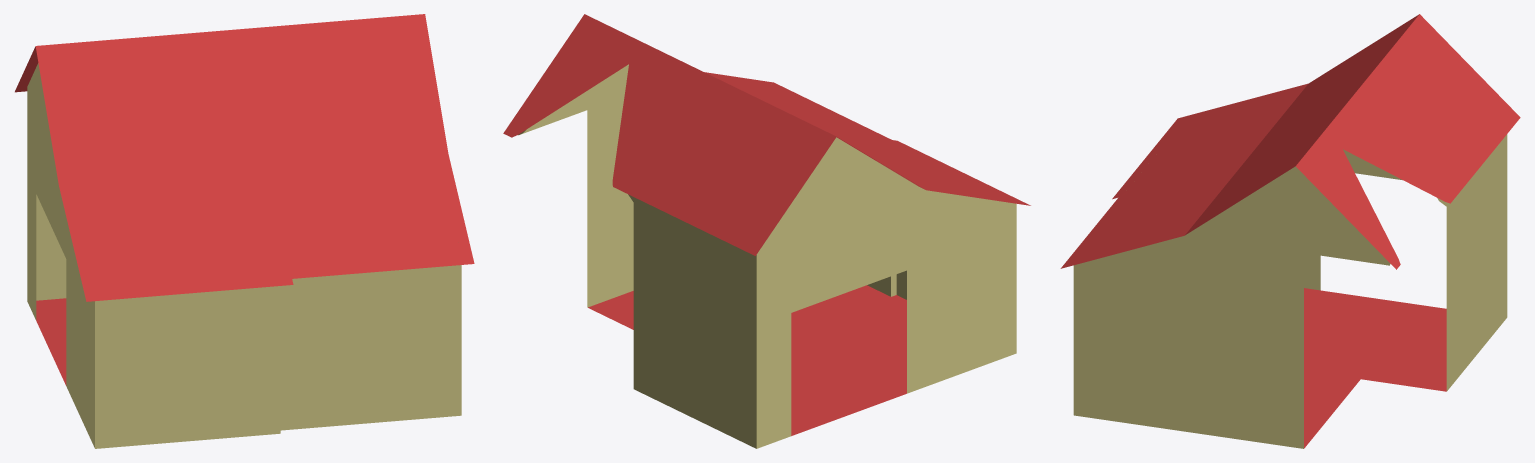
The picture shows the model from 3 angles, left to right: view 1: azimuth 30°, elevation 25°; view 2: azimuth 150°, elevation 25°; view 3: azimuth 270°, elevation 25°; orthographic projection. The views are drawn at different scales.
Bounding box in the file's own units: 22.67 × 21.81 × 14.96.
